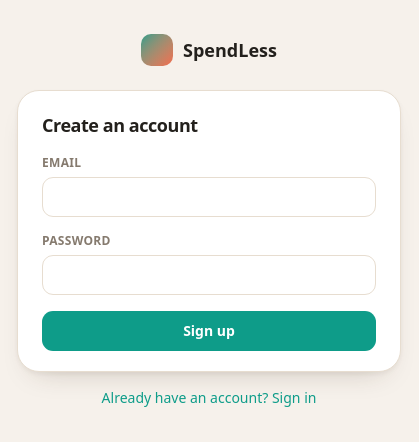
it: SignupPage › surfaces a failed signup instead of navigating
The image size is (419, 442).
Type "new@example.com" into the field labelled "Email". click: (209, 197)
box: [42,177,376,217]
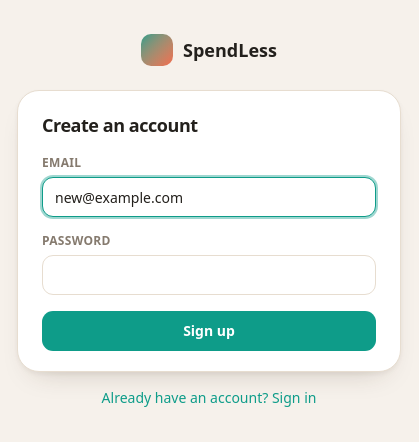
Type "hunter2hunter2" into the password field labelled "Password". click: (209, 275)
box: [42,255,376,295]
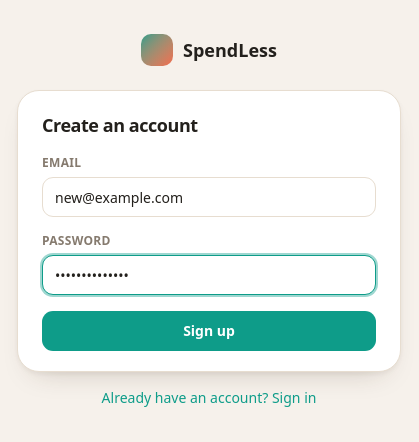
Click the button "Sign up". click: (209, 331)
box: [42,311,376,351]
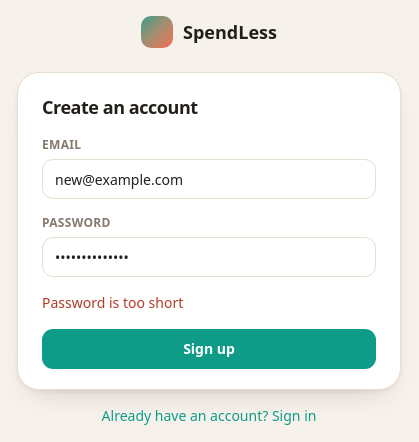
Expected: the message reads "Password is too short", [42,293,183,312]
